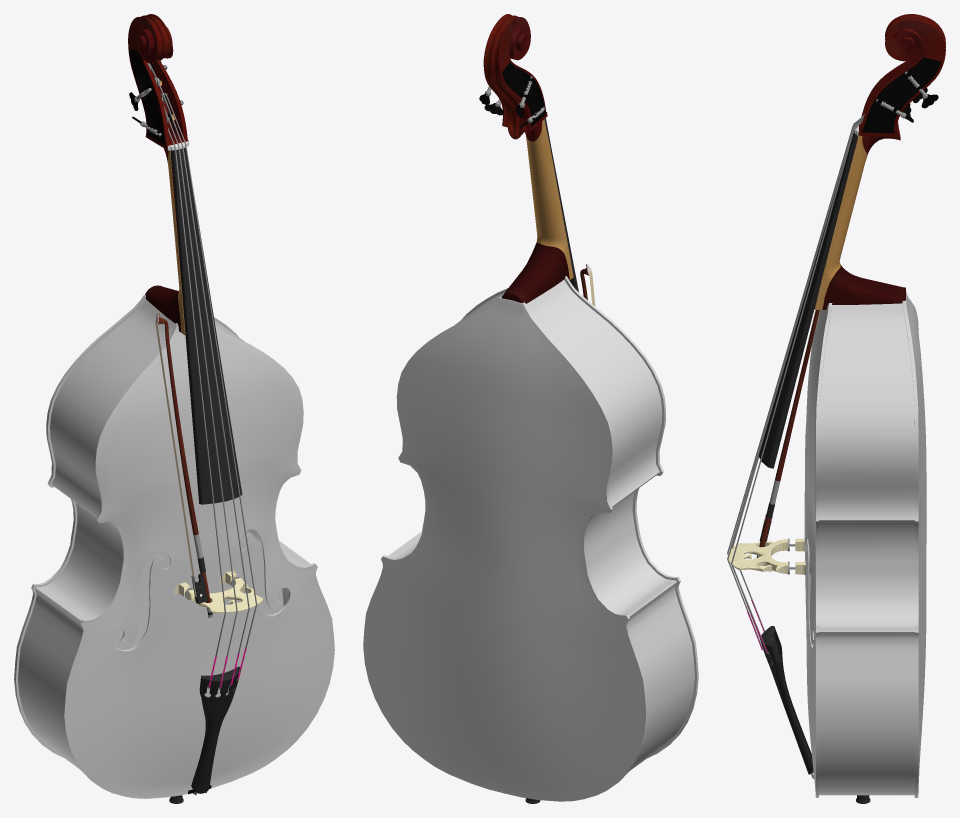
File: doublebass-opt.glb
3 views of the same model, side by side, from view 1: azimuth 30°, elevation 25°; view 2: azimuth 150°, elevation 25°; view 3: azimuth 270°, elevation 25° (orthographic). The views are drawn at different scales.
Visible parts, largest first — view 1: arch67_14_14, arch67_14_02, arch67_14_06, arch67_14_05, arch67_14_07, arch67_14_13, arch67_14_04, arch67_14_01; view 2: arch67_14_14, arch67_14_06, arch67_14_07; view 3: arch67_14_14, arch67_14_06, arch67_14_02, arch67_14_05, arch67_14_07, arch67_14_13, arch67_14_04.
Part boxes in pixels (x1,y1,x2,y2): arch67_14_14: (14,295,334,798); arch67_14_02: (169,147,242,803); arch67_14_06: (128,14,188,335); arch67_14_05: (134,63,257,795); arch67_14_07: (129,49,211,794); arch67_14_13: (174,570,263,612); arch67_14_04: (158,312,210,609); arch67_14_01: (155,320,194,576); arch67_14_14: (363,276,698,801); arch67_14_06: (483,14,573,303); arch67_14_07: (479,62,545,128); arch67_14_14: (804,290,926,797); arch67_14_06: (814,14,945,309); arch67_14_02: (756,133,870,803); arch67_14_05: (727,71,927,778); arch67_14_07: (862,57,941,133); arch67_14_13: (727,538,806,576); arch67_14_04: (759,310,819,547).
Size of the model in its own units: 0.7022 by 1.9 by 0.4808.
10 materials, 3 textured.
